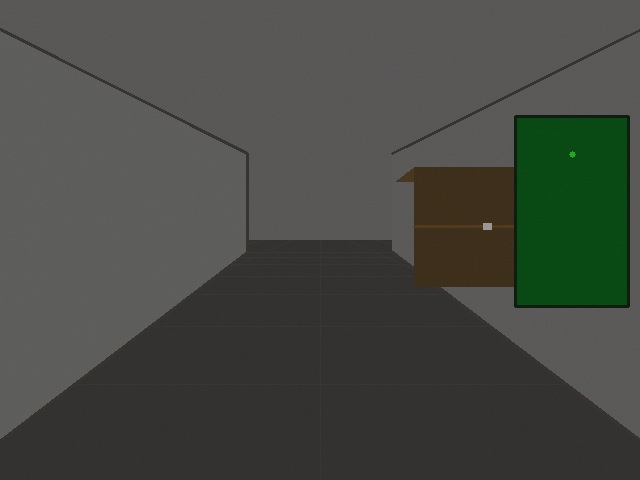box: (396, 167, 560, 286)
charging_station: (515, 116, 628, 306)
